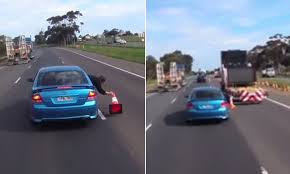car: (30, 66, 96, 127), (187, 87, 227, 124)
cone: (109, 90, 122, 116), (229, 97, 236, 112)
